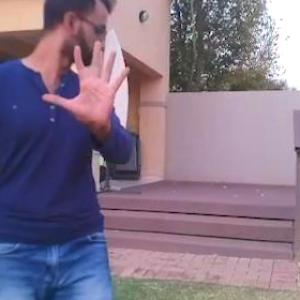follow_hand: (43, 35, 135, 128)
